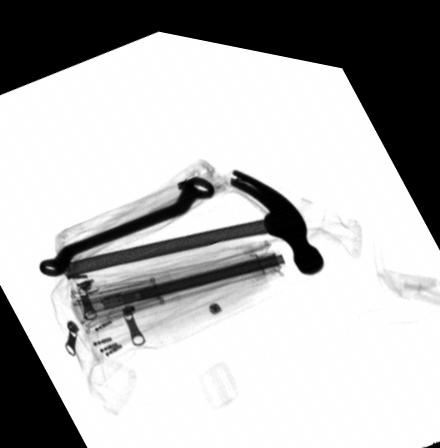Hammer: (58, 157, 325, 279)
Wrench: (38, 168, 215, 273)
